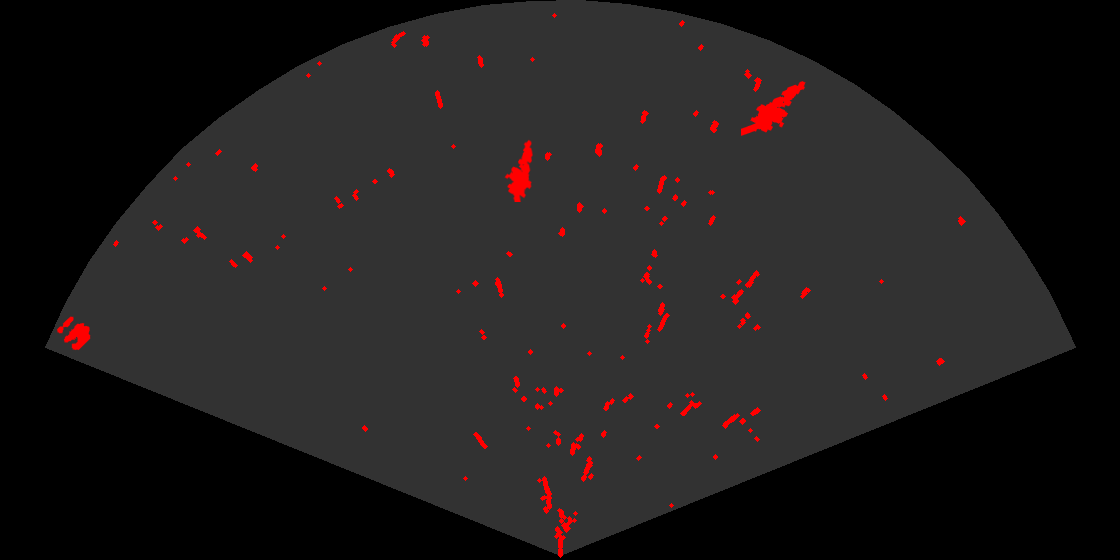ball: (55, 315, 92, 352)
frogman: (741, 80, 807, 137), (503, 138, 535, 202)
